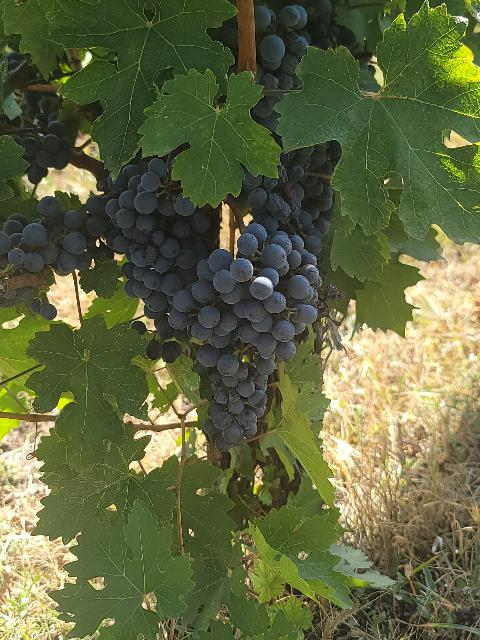grapes: (169, 222, 321, 451), (105, 152, 220, 361), (0, 195, 115, 320)
